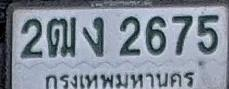2: (20, 18, 42, 57), (119, 15, 140, 55)
5: (198, 13, 218, 54)
6: (146, 15, 166, 54)
7: (171, 14, 192, 55)
A07: (82, 16, 104, 56)
A18: (47, 16, 76, 57)
BKK: (41, 70, 198, 89)
